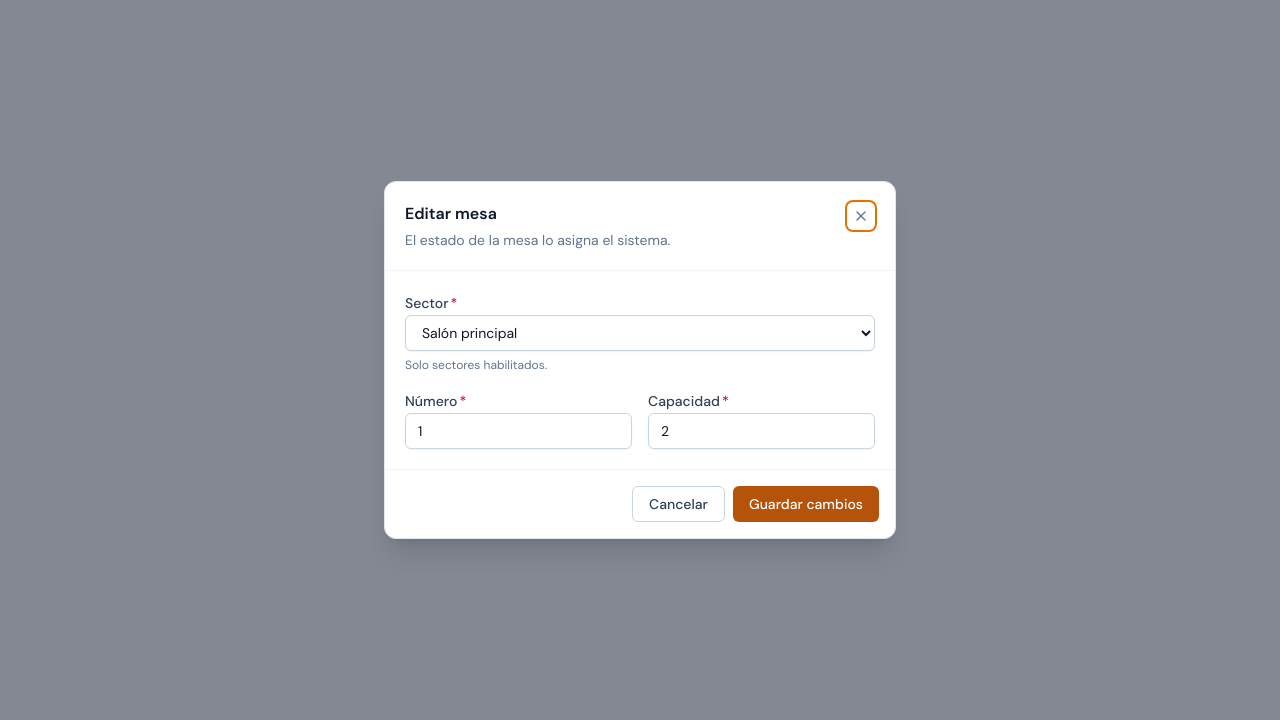
Test: MesaFormDialog: edición › con un dato obligatorio vacío no guarda y lo informa (CA 2 de #39)
Expected: the field labelled "Número*" is shown, [405,413,632,449]
Clear the field labelled "Capacidad*". click: (762, 431)
box: [648,413,875,449]
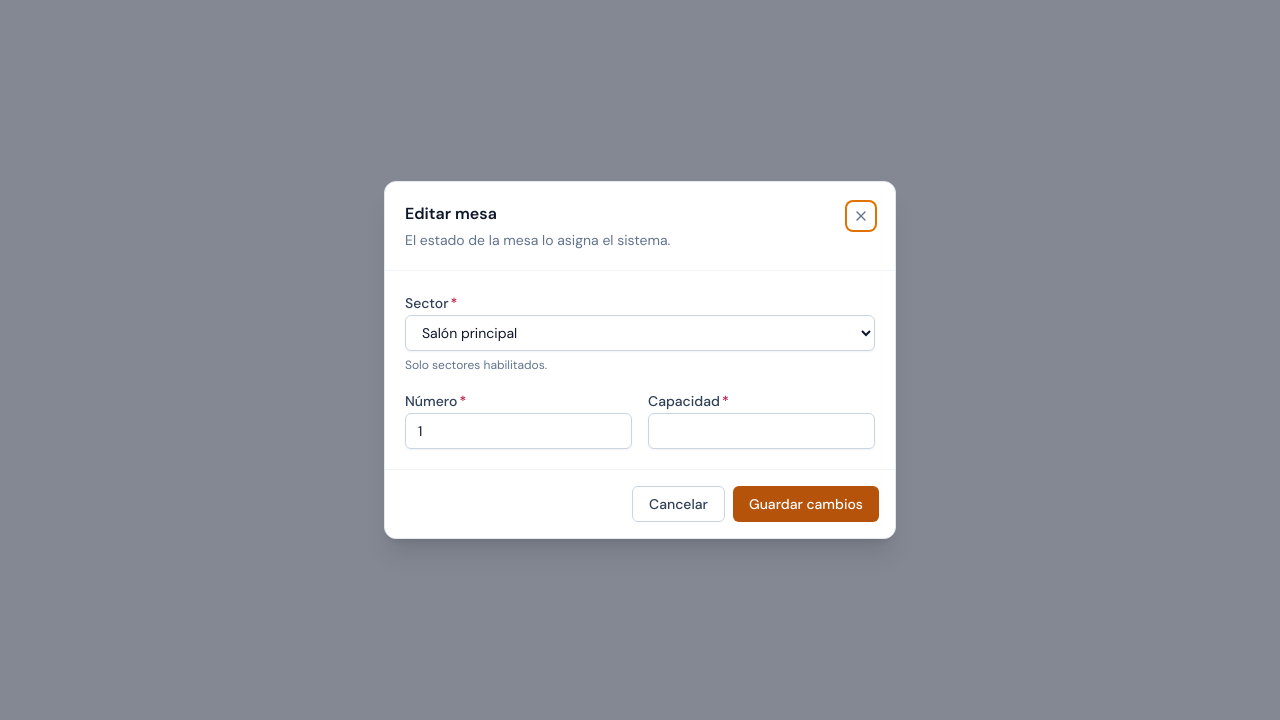
Click the button "Guardar cambios". click: (806, 504)
box: [733,486,879,522]
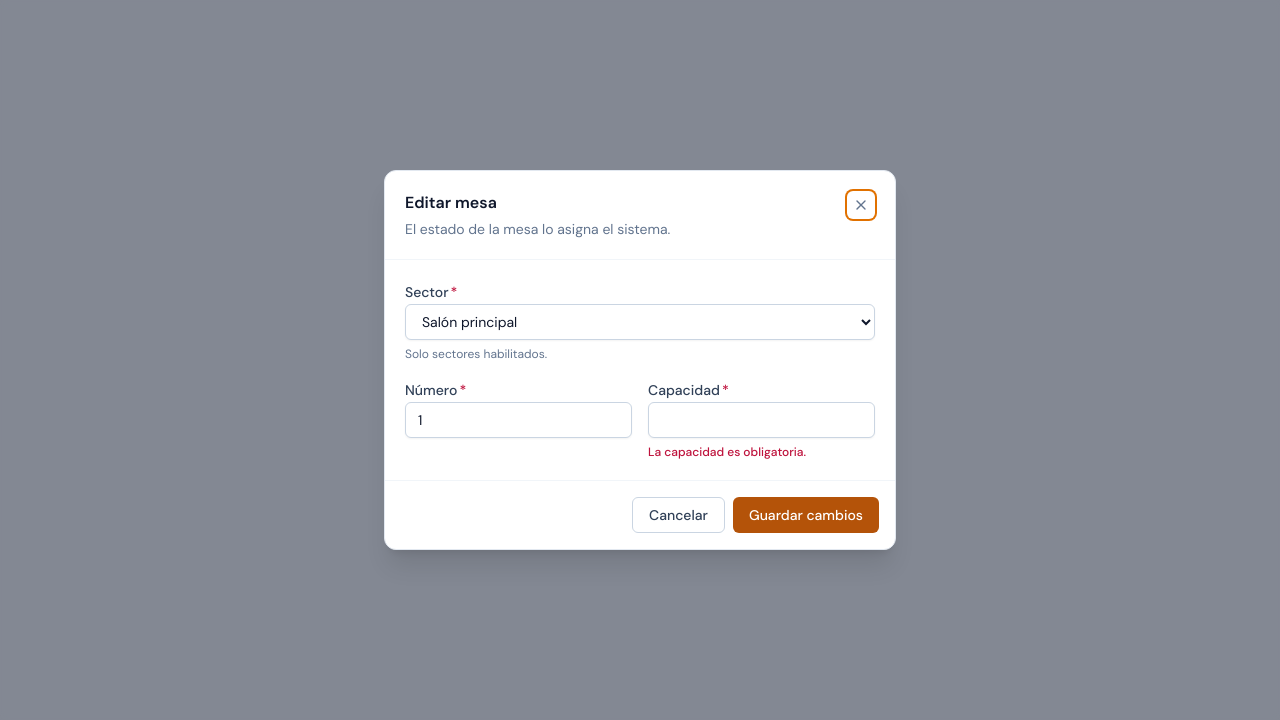
Expected: the text "La capacidad es obligatoria." is shown, [648,444,806,460]
